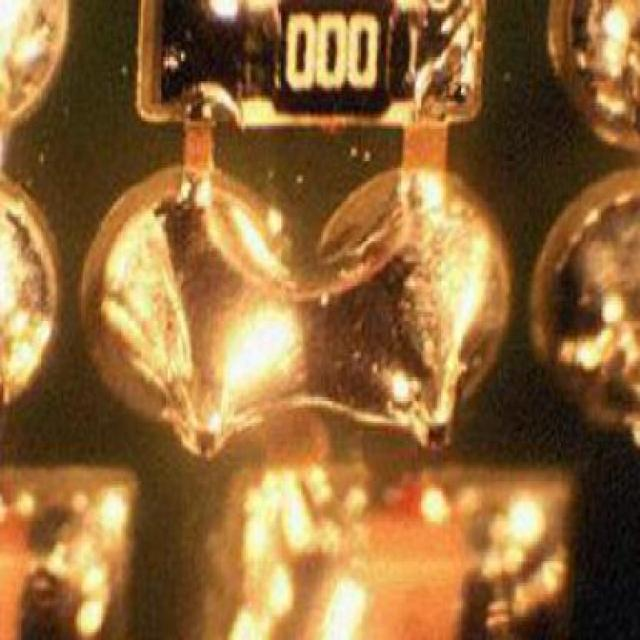Soldering shorted: (85, 178, 508, 478)
